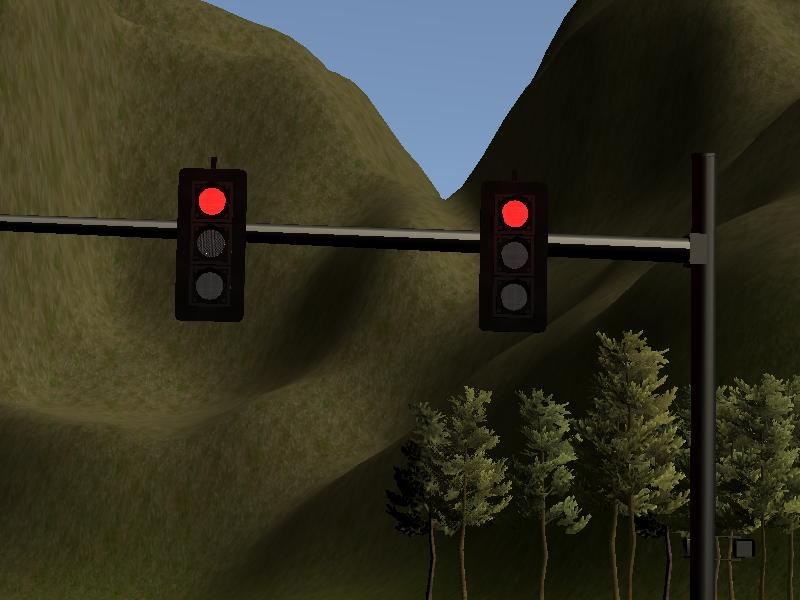red: (173, 162, 252, 328), (476, 175, 550, 334)
